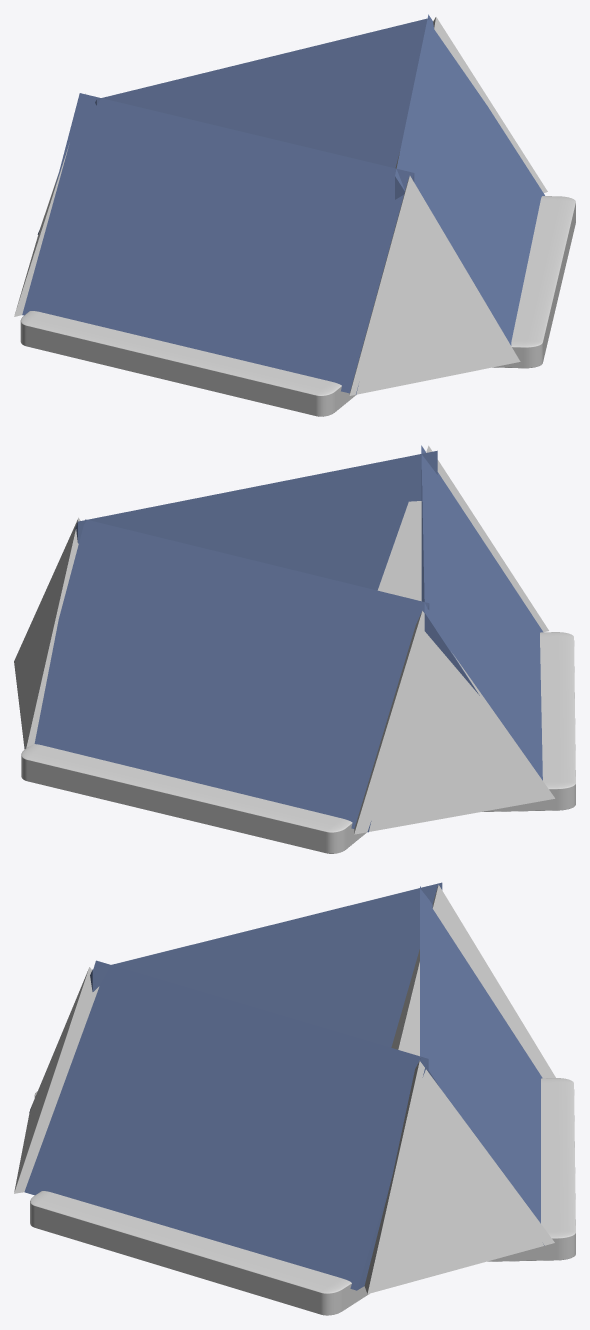
Rendered from mpc.glb.
3 views of the same model, one above another, from view 1: azimuth 30°, elevation 25°; view 2: azimuth 150°, elevation 25°; view 3: azimuth 270°, elevation 25° (orthographic). The views are drawn at different scales.
Parts seen in each view (by area): view 1: Mesh_Mesh_head_geo.001_lambert2SG.001; view 2: Mesh_Mesh_head_geo.001_lambert2SG.001; view 3: Mesh_Mesh_head_geo.001_lambert2SG.001.
Boxes of the visible parts, <box> form: Mesh_Mesh_head_geo.001_lambert2SG.001: <box>14,14,575,416</box>; Mesh_Mesh_head_geo.001_lambert2SG.001: <box>14,445,575,853</box>; Mesh_Mesh_head_geo.001_lambert2SG.001: <box>14,882,575,1315</box>.
Size of the model in its own units: 63.44 by 22 by 54.
